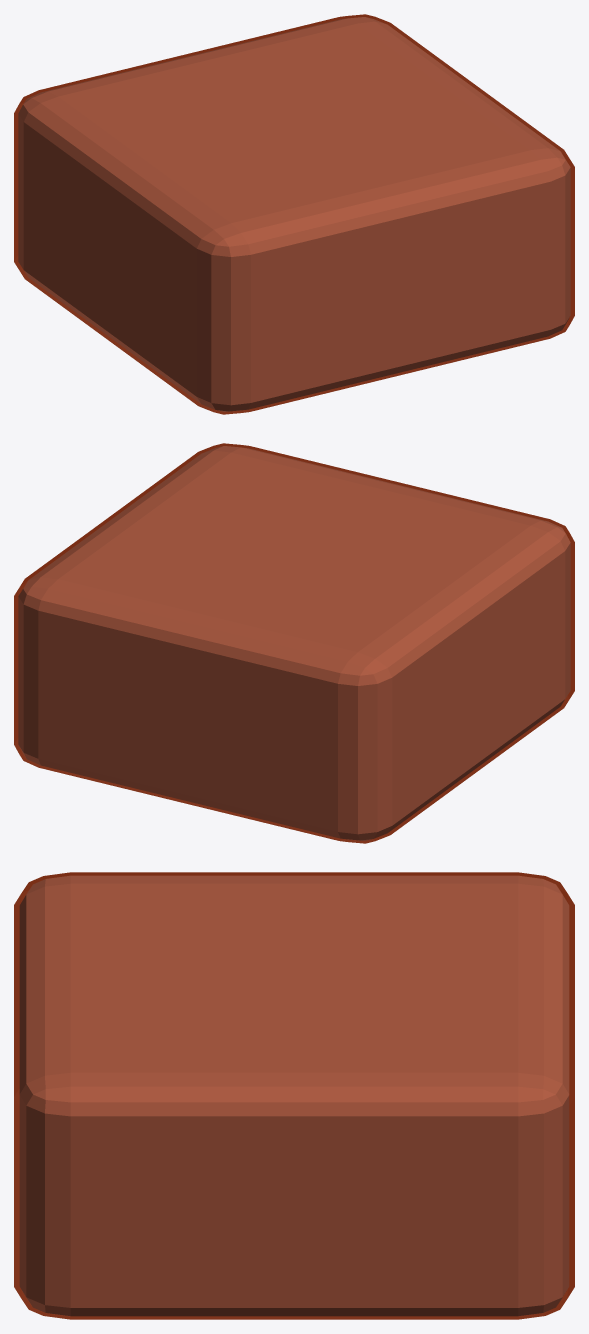
The model's file is quadrado chocolate.glb.
3 renders of one model, top to bottom at view 1: azimuth 30°, elevation 25°; view 2: azimuth 150°, elevation 25°; view 3: azimuth 270°, elevation 25°, orthographic. The views are drawn at different scales.
Visible parts, largest first — view 1: Cube.010; view 2: Cube.010; view 3: Cube.010.
Part boxes in pixels (<box>): Cube.010: <box>14,14,574,414</box>; Cube.010: <box>14,443,574,843</box>; Cube.010: <box>14,872,574,1319</box>.
Bounding box in the file's own units: 21.22 × 10.02 × 21.22.
